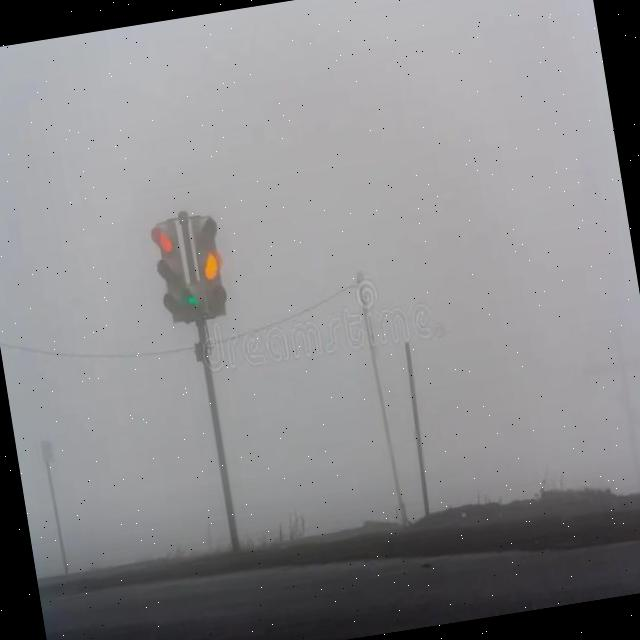yellow_light: (192, 216, 228, 316), (155, 223, 189, 319)
